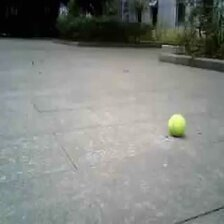tennis: (169, 114, 187, 137)
